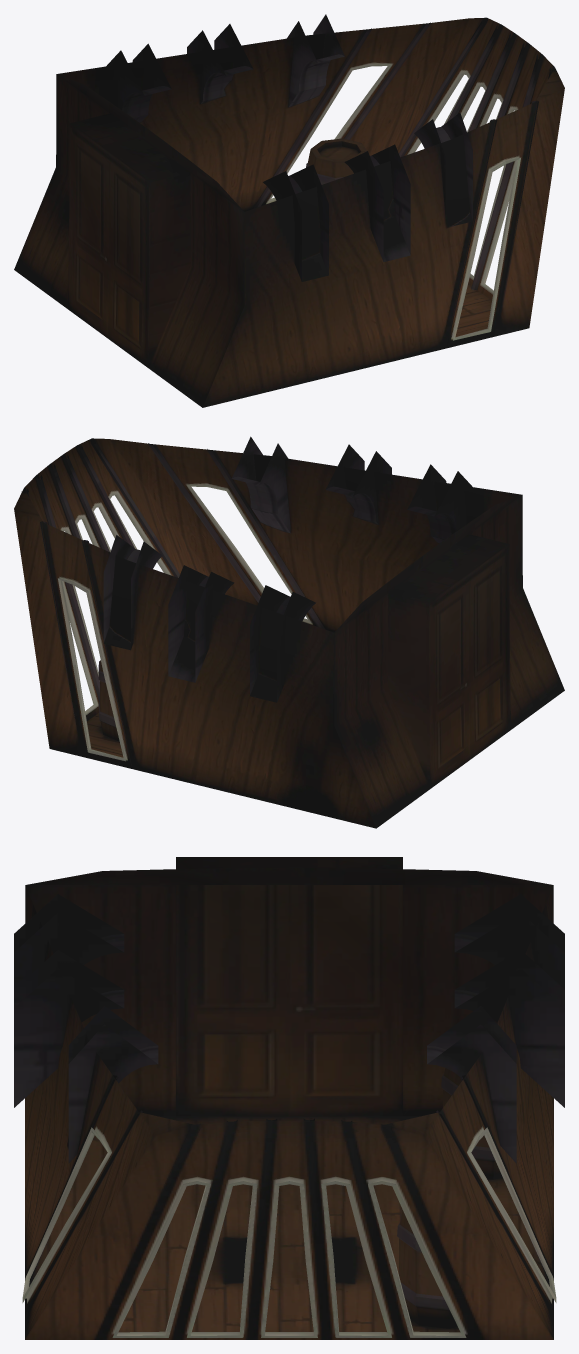
Rendered from environement.glb.
3 views of the same model, one above another, from view 1: azimuth 30°, elevation 25°; view 2: azimuth 150°, elevation 25°; view 3: azimuth 270°, elevation 25° (orthographic). The views are drawn at different scales.
Visible parts, largest first — view 1: Cube.005; view 2: Cube.005; view 3: Cube.005.
Part boxes in pixels (bbox=[...]): Cube.005: bbox=[14, 14, 564, 407]; Cube.005: bbox=[14, 436, 564, 828]; Cube.005: bbox=[14, 857, 564, 1339].
Bounding box in the file's own units: 30.43 × 14.4 × 25.
1 material, 1 textured.
